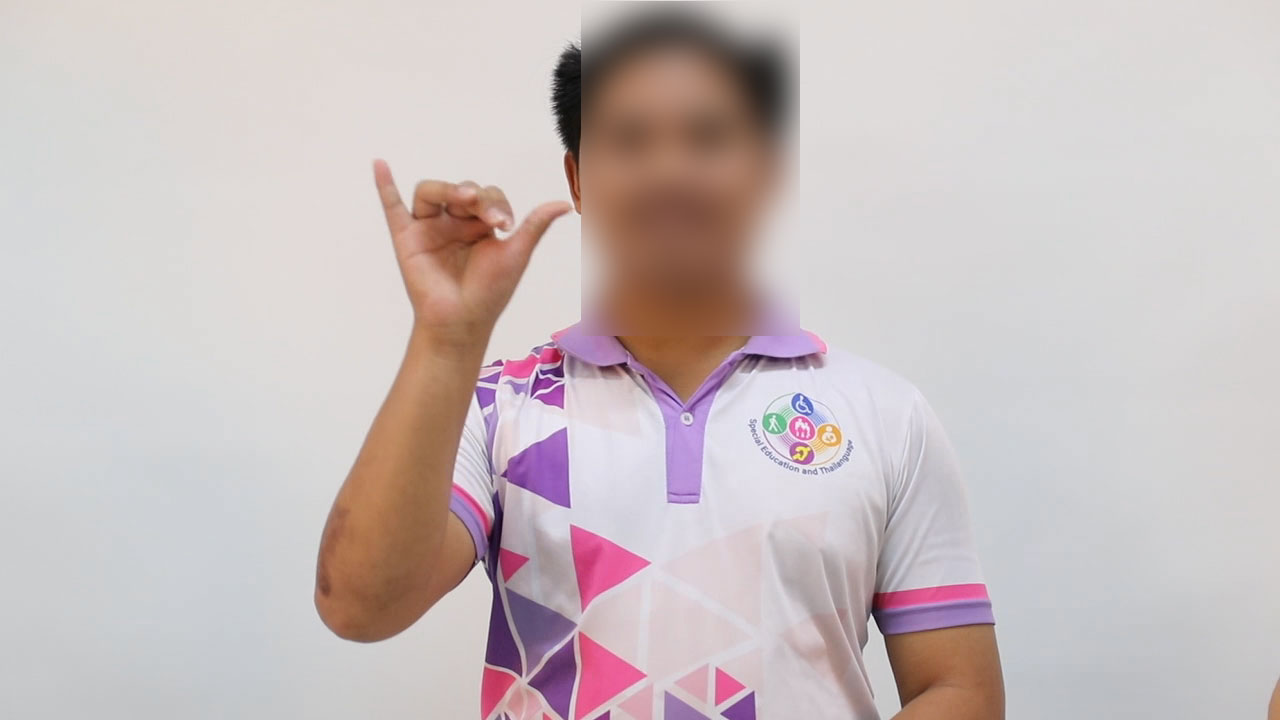yor: (360, 147, 581, 361)
